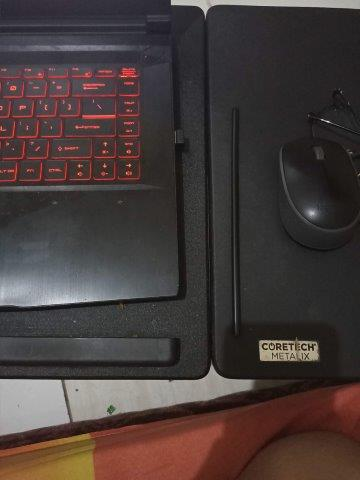sedotan: (231, 108, 239, 336)
